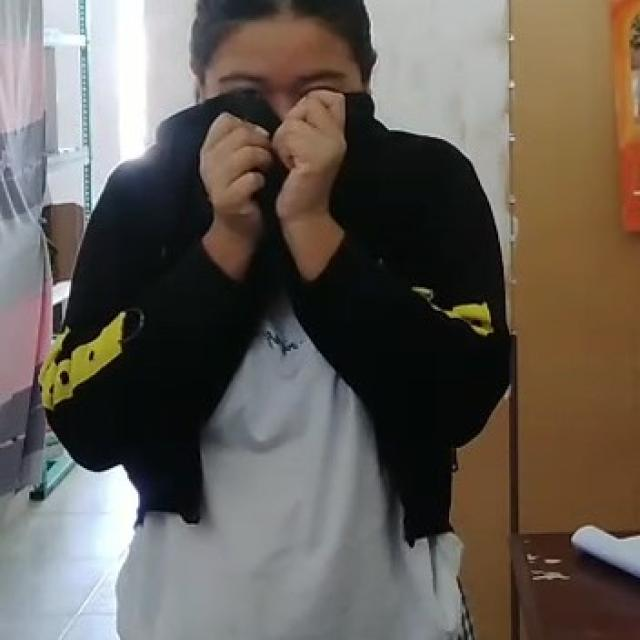8_ropa_rostro: (152, 83, 392, 279)
